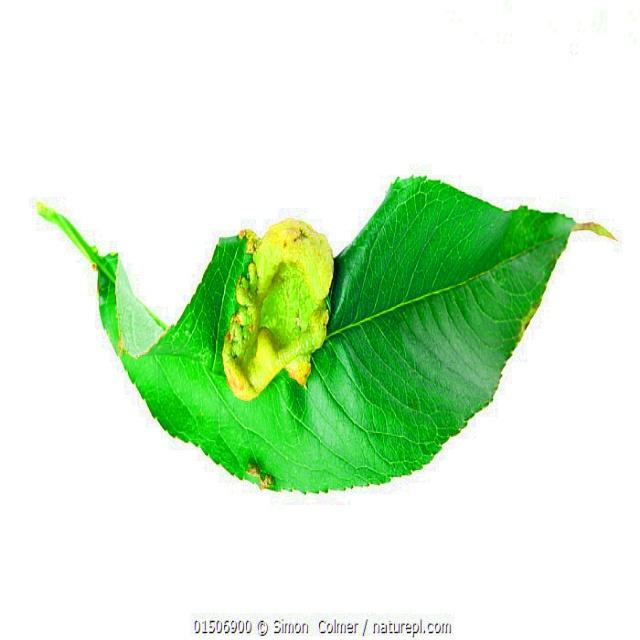leaf_curl: (77, 173, 607, 504)
